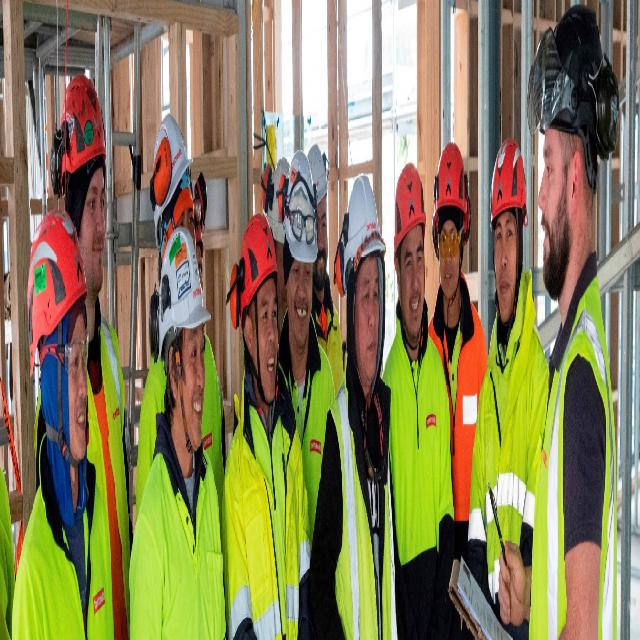Hard Hat: (537, 0, 622, 186), (20, 207, 90, 373), (56, 57, 110, 203), (224, 183, 281, 316), (152, 236, 212, 353), (337, 170, 387, 283), (146, 111, 198, 214), (484, 134, 530, 226), (284, 151, 317, 268), (432, 142, 468, 237), (393, 162, 430, 248), (261, 147, 292, 245), (306, 135, 331, 199)
Reflective Vest: (528, 273, 619, 640), (470, 269, 546, 640), (133, 322, 230, 578), (221, 385, 308, 640), (385, 325, 454, 640), (13, 436, 115, 640), (127, 445, 226, 640), (324, 371, 394, 640), (427, 260, 489, 540), (83, 306, 132, 640), (278, 281, 334, 556), (312, 294, 345, 425), (0, 458, 18, 640)
Safety Glasses: (38, 324, 89, 394), (286, 200, 317, 246), (433, 220, 466, 257)
